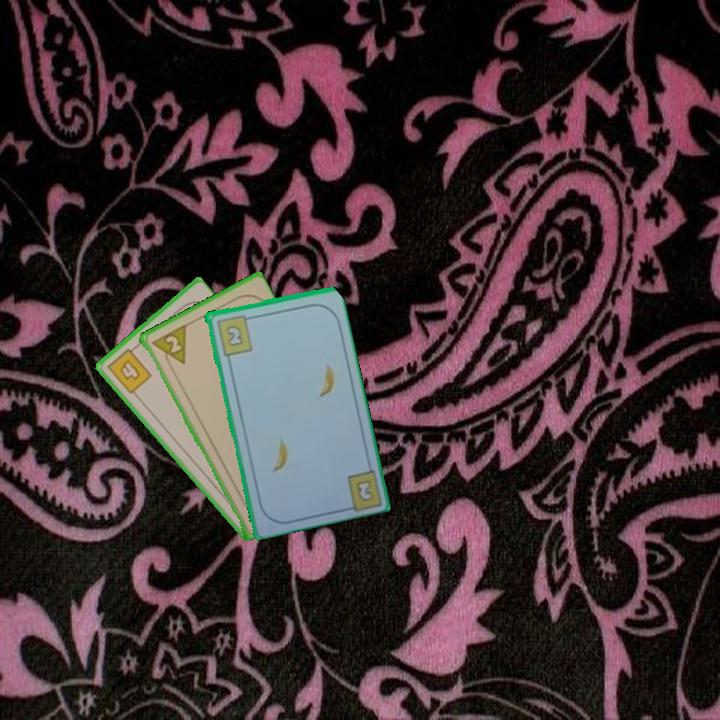2b: (213, 311, 255, 358), (352, 476, 376, 504)
2p: (147, 321, 189, 372)
4b: (103, 342, 155, 397)
